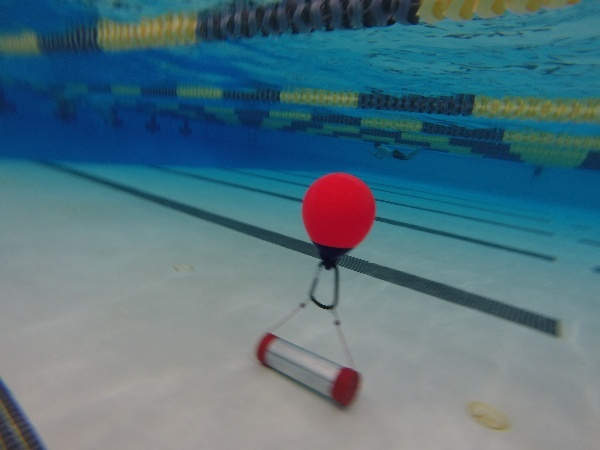buoy_red: (294, 169, 377, 274)
